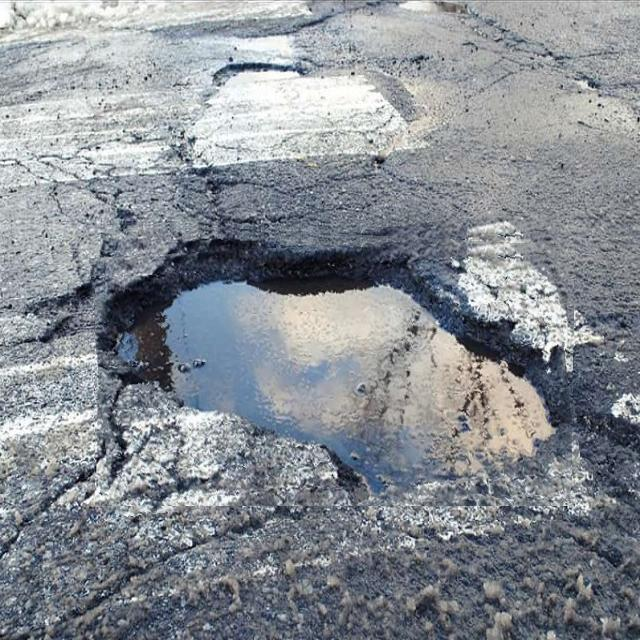Pothole: (95, 221, 575, 506)
